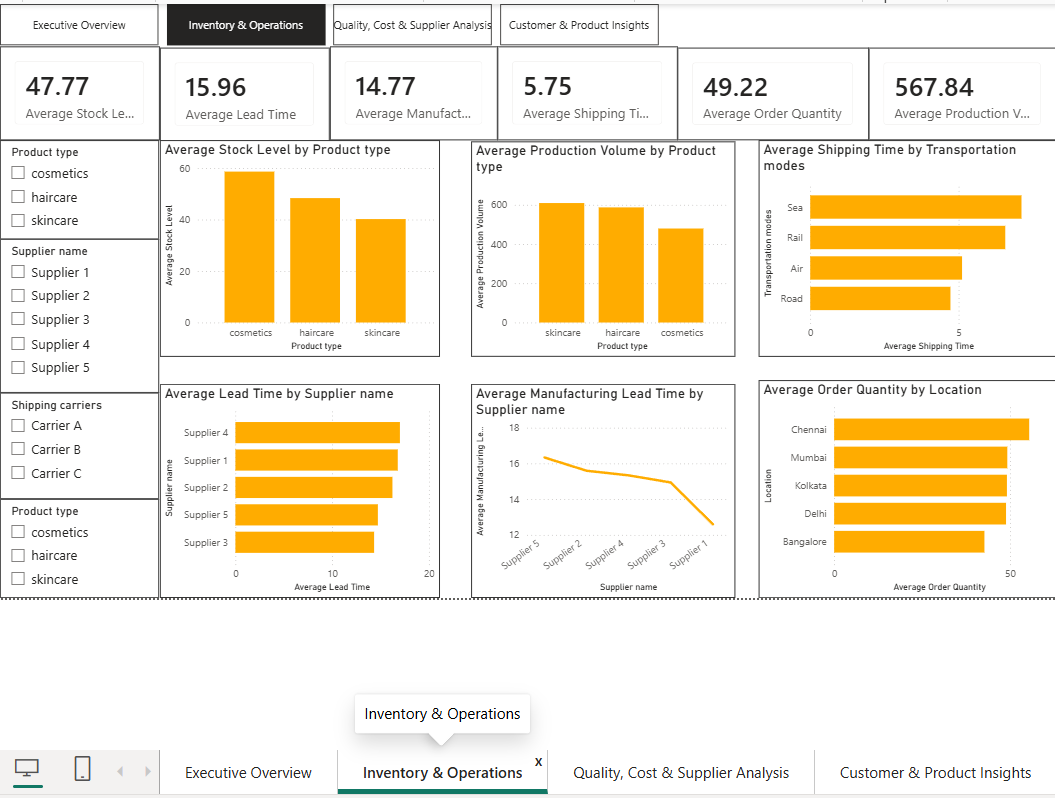

Layout of this report page (visuals, bound fields, positions):
{"tool":"powerbi","page":{"name":"Inventory & Operations","canvas":[1280,720],"ordinal":1},"visuals":[{"type":"cardVisual","fields":{"Data":["Fact_supplychain.Average Stock Level"]},"box":[0,87.8,193.5,94.7],"z":0},{"type":"cardVisual","fields":{"Data":["Fact_supplychain.Average Lead Time"]},"box":[193.5,87.8,205.8,93.3],"z":1000},{"type":"cardVisual","fields":{"Data":["Fact_supplychain.Average Manufacturing Lead Time"]},"box":[399.3,87.8,203.1,94.7],"z":2000},{"type":"cardVisual","fields":{"Data":["Fact_supplychain.Average Shipping Time"]},"box":[602.4,87.8,218.2,94.7],"z":3000},{"type":"cardVisual","fields":{"Data":["Fact_supplychain.Average Order Quantity"]},"box":[820.6,87.8,231.9,93.3],"z":4000},{"type":"cardVisual","fields":{"Data":["Fact_supplychain.Average Production Volume"]},"box":[1052.2,87.8,227.8,93.3],"z":5000},{"type":"slicer","fields":{"Values":["Fact_supplychain.Product type"]},"box":[845.3,0,142.7,83.7],"z":6000},{"type":"slicer","fields":{"Values":["Fact_supplychain.Supplier name"]},"box":[988,0,135.8,83.7],"z":7000},{"type":"slicer","fields":{"Values":["Fact_supplychain.Shipping carriers"]},"box":[1123.8,0,156.4,83.7],"z":8000},{"type":"clusteredColumnChart","fields":{"Category":["Fact_supplychain.Product type"],"Y":["Fact_supplychain.Average Stock Level"]},"box":[0,193.5,319.7,262.1],"z":10000},{"type":"clusteredBarChart","title":"Lead Time by Supplier","fields":{"Category":["Fact_supplychain.Supplier name"],"Y":["Fact_supplychain.Average Lead Time"]},"box":[0,462.4,319.7,258],"z":11000},{"type":"clusteredColumnChart","title":"Production Volume by Product type","fields":{"Category":["Fact_supplychain.Product type"],"Y":["Fact_supplychain.Average Production Volume"]},"box":[330.7,194.9,288.2,260.7],"z":12000},{"type":"lineChart","title":"Manufacturing Lead Time by Supplier","fields":{"Category":["Fact_supplychain.Supplier name"],"Y":["Fact_supplychain.Average Manufacturing Lead Time"]},"box":[330.7,462.4,288.2,258],"z":13000},{"type":"barChart","title":"Shipping Time by Transportation modes","fields":{"Category":["Fact_supplychain.Transportation modes"],"Y":["Fact_supplychain.Average Shipping Time"]},"box":[627.1,193.5,310.1,262.1],"z":14000},{"type":"barChart","title":"Order Quantity by Location","fields":{"Category":["Fact_supplychain.Location"],"Y":["Fact_supplychain.Average Order Quantity"]},"box":[627.1,462.4,310.1,258],"z":15000},{"type":"pageNavigator","box":[949.6,671,330.7,49.4],"z":16000},{"type":"textbox","box":[949.6,462.4,330.7,199],"z":16001},{"type":"textbox","box":[0,0,835.7,83.7],"z":16002},{"type":"scatterChart","title":"Stock Level vs Order Quantity by SKU","fields":{"X":["Sum(Fact_supplychain.Stock levels)"],"Y":["Sum(Fact_supplychain.Order quantities)"],"Category":["Fact_supplychain.SKU"],"Series":["Fact_supplychain.Product type"],"Size":["Sum(Fact_supplychain.Number of products sold)"]},"box":[949.6,193.5,330.7,262.1],"z":16003}]}

Visuals, with their boxes on the page's 1280x720 design canvas (x1, y1, x2, y2). These are canvas units, not pixel positions in the 1055x798 screenshot, which may show the page scaled, cropped or inside an application window:
cardVisual - Fact_supplychain.Average Stock Level: [x1=0, y1=88, x2=194, y2=182]
cardVisual - Fact_supplychain.Average Lead Time: [x1=194, y1=88, x2=399, y2=181]
cardVisual - Fact_supplychain.Average Manufacturing Lead Time: [x1=399, y1=88, x2=602, y2=182]
cardVisual - Fact_supplychain.Average Shipping Time: [x1=602, y1=88, x2=821, y2=182]
cardVisual - Fact_supplychain.Average Order Quantity: [x1=821, y1=88, x2=1052, y2=181]
cardVisual - Fact_supplychain.Average Production Volume: [x1=1052, y1=88, x2=1280, y2=181]
slicer - Fact_supplychain.Product type: [x1=845, y1=0, x2=988, y2=84]
slicer - Fact_supplychain.Supplier name: [x1=988, y1=0, x2=1124, y2=84]
slicer - Fact_supplychain.Shipping carriers: [x1=1124, y1=0, x2=1280, y2=84]
clusteredColumnChart - Fact_supplychain.Product type x Fact_supplychain.Average Stock Level: [x1=0, y1=194, x2=320, y2=456]
"Lead Time by Supplier" clusteredBarChart: [x1=0, y1=462, x2=320, y2=720]
"Production Volume by Product type" clusteredColumnChart: [x1=331, y1=195, x2=619, y2=456]
"Manufacturing Lead Time by Supplier" lineChart: [x1=331, y1=462, x2=619, y2=720]
"Shipping Time by Transportation modes" barChart: [x1=627, y1=194, x2=937, y2=456]
"Order Quantity by Location" barChart: [x1=627, y1=462, x2=937, y2=720]
pageNavigator: [x1=950, y1=671, x2=1280, y2=720]
textbox: [x1=950, y1=462, x2=1280, y2=661]
textbox: [x1=0, y1=0, x2=836, y2=84]
"Stock Level vs Order Quantity by SKU" scatterChart: [x1=950, y1=194, x2=1280, y2=456]
